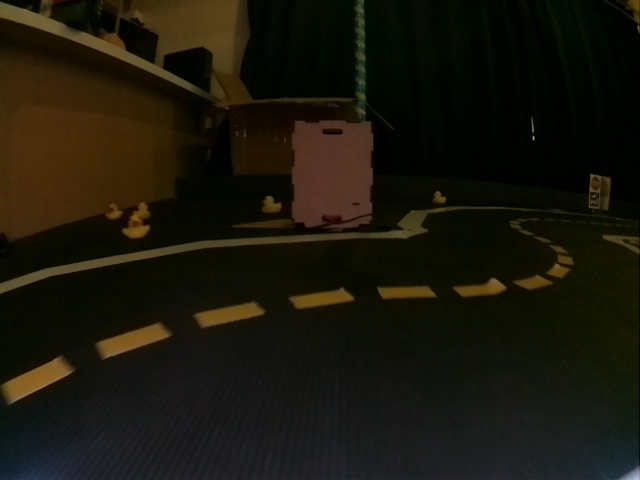Duckie: (122, 216, 151, 237), (262, 197, 281, 212), (106, 205, 119, 217), (137, 204, 150, 216), (435, 193, 445, 203)
QR code: (590, 192, 600, 207)
Stop sign: (590, 176, 600, 191)
